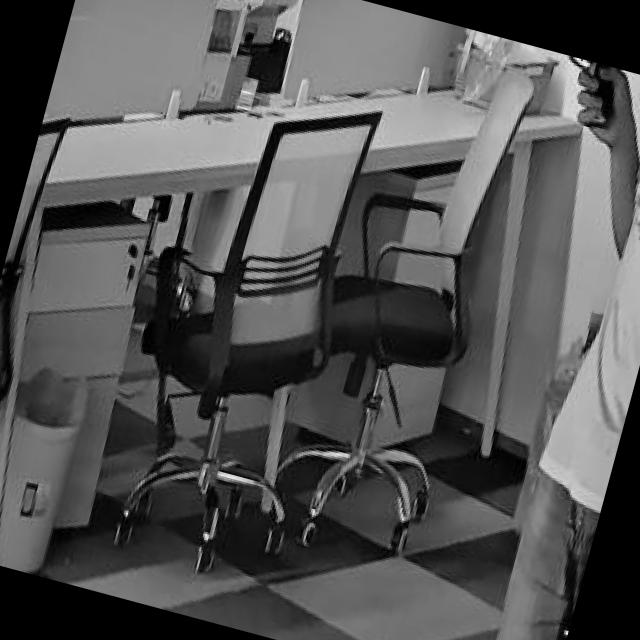Guns: (479, 37, 640, 168)
